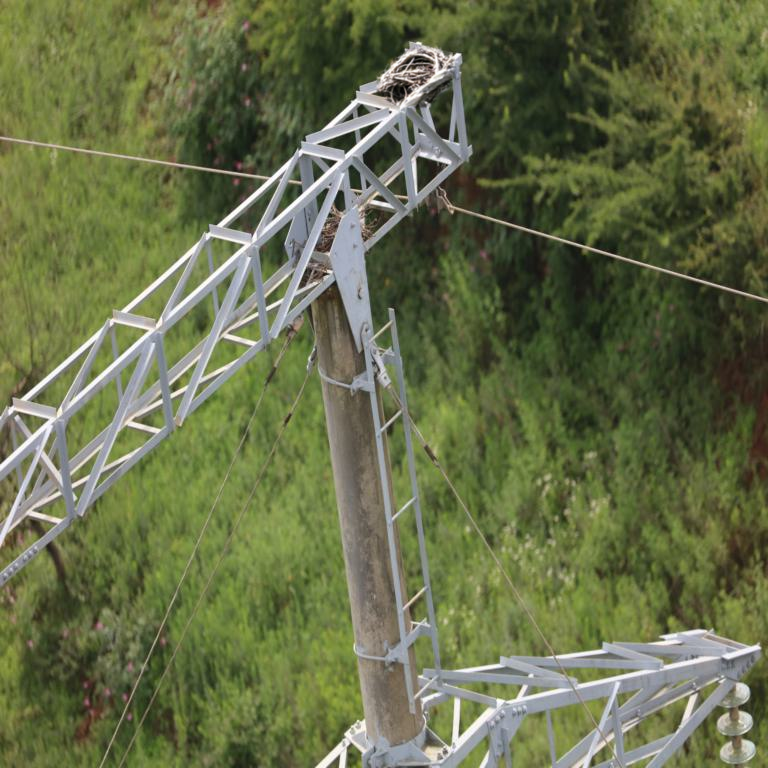nest: (316, 207, 369, 261), (385, 62, 435, 103)
